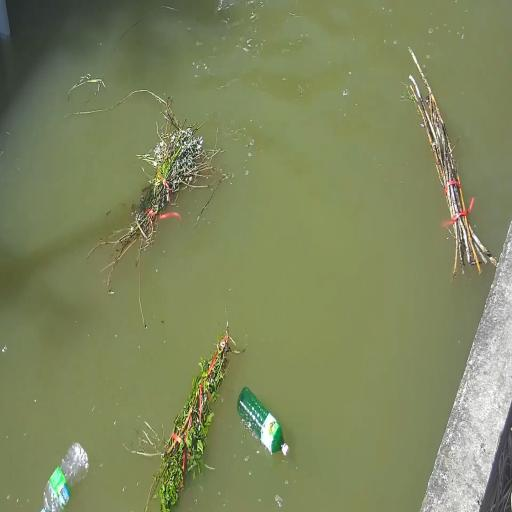plastic: (236, 371, 289, 459), (39, 437, 90, 512)
twig: (404, 49, 496, 275), (105, 98, 210, 260), (144, 319, 232, 512)
